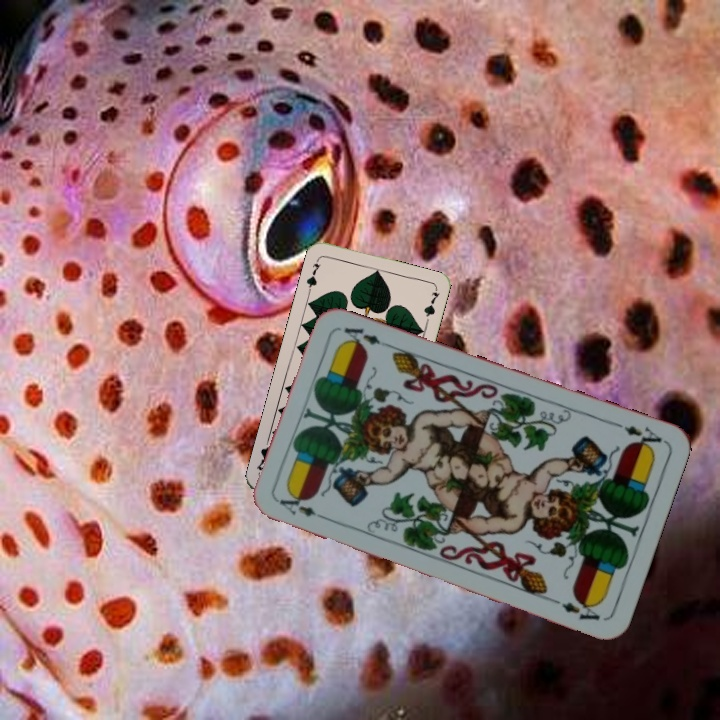EA: (609, 418, 665, 453), (275, 495, 332, 523)
G7: (302, 254, 323, 294)
